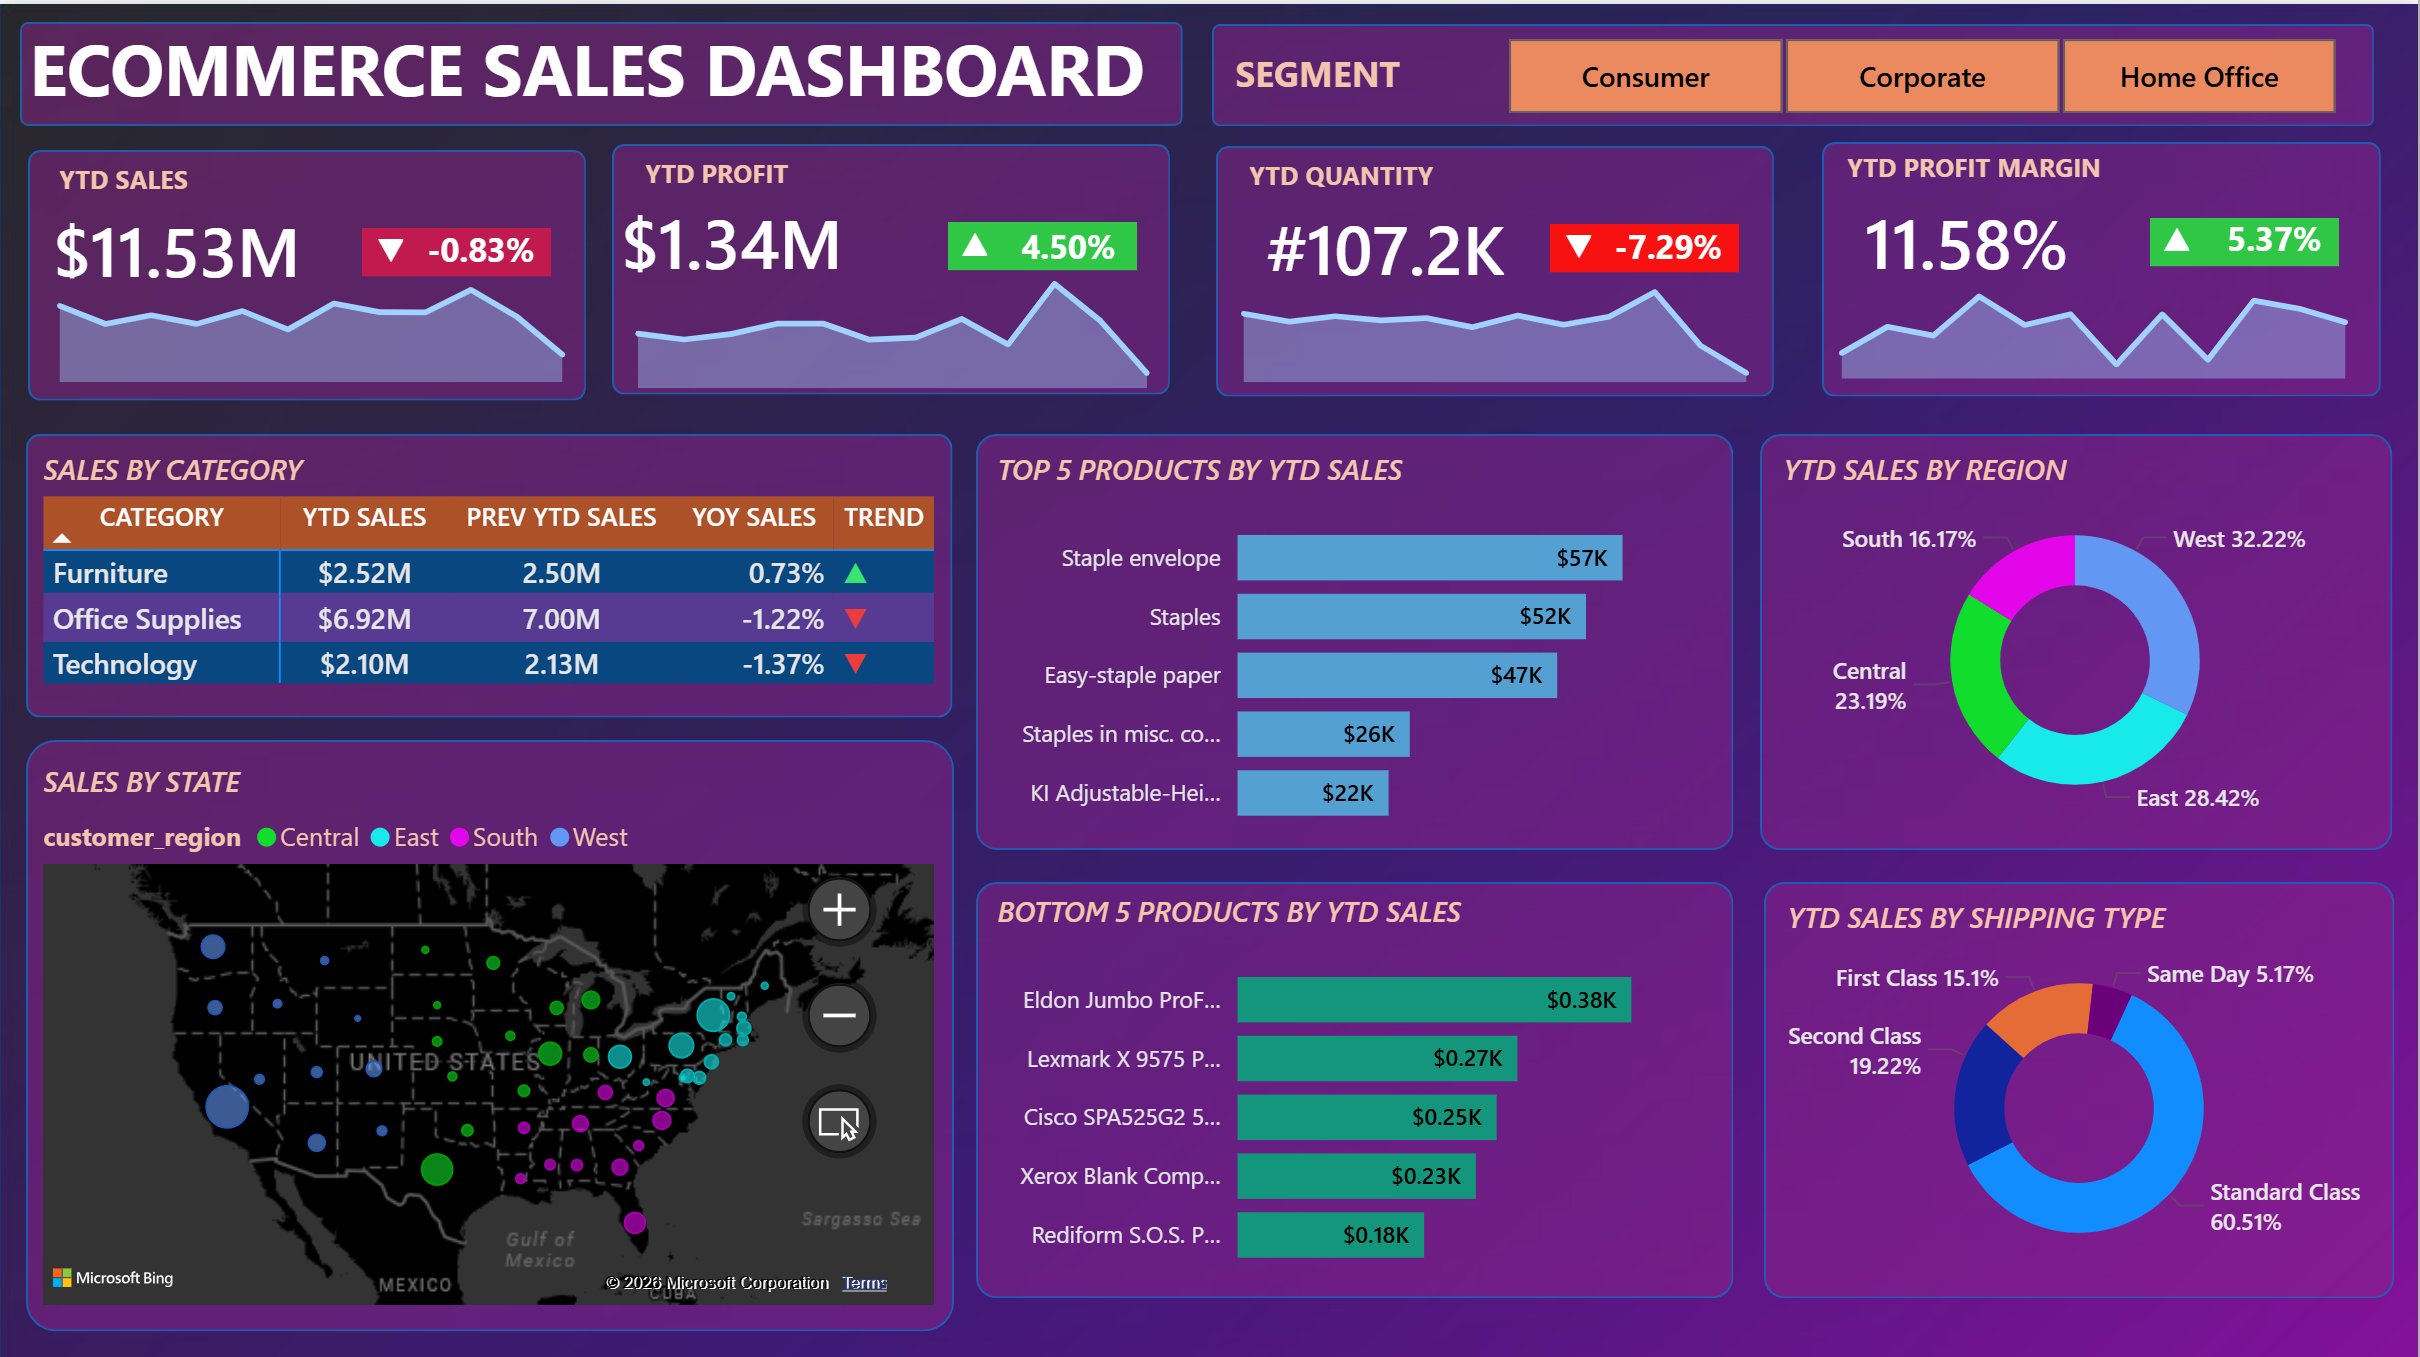

The page's visual inventory and layout, read from the dashboard file:
{"tool":"powerbi","page":{"name":"Page 1","canvas":[1280,720],"ordinal":0},"visuals":[{"type":"group","id":"g1","title":"Group 3","box":[0,77,313.2,132.5],"z":0},{"type":"shape","box":[192.7,118,100,25.3],"z":0,"group":"g1"},{"type":"shape","box":[15.6,77,295.2,132.5],"z":1000,"group":"g1"},{"type":"shape","box":[12,9.6,615,55],"z":2000},{"type":"areaChart","fields":{"Category":["CALANDER.MONTH"],"Y":["Sum(Ecommerce_data.sales_per_order)"]},"box":[18,128.8,295.2,75.9],"z":2000,"group":"g1"},{"type":"textbox","box":[12,3.6,637.3,68.7],"z":3000},{"type":"cardVisual","fields":{"Data":["Ecommerce_data.SALES TREND ICON"]},"box":[171.1,101.1,72.3,54.2],"z":3000,"group":"g1"},{"type":"textbox","box":[27.7,78.2,95.2,39.8],"z":4000,"group":"g1"},{"type":"shape","box":[14.5,227.7,490,150],"z":4000},{"type":"cardVisual","fields":{"Data":["Ecommerce_data.YOY GROWTH"]},"box":[197.3,102.3,115.5,52.9],"z":4500,"group":"g1"},{"type":"shape","box":[325.8,74.5,295.2,132.5],"z":5000,"group":"g4"},{"type":"cardVisual","fields":{"Data":["Ecommerce_data.YTD SALES"]},"box":[0,93.8,206.9,68.6],"z":5000,"group":"g1"},{"type":"pivotTable","title":"SALES BY CATEGORY","fields":{"Rows":["Ecommerce_data.category_name"],"Values":["Ecommerce_data.YTD SALES","Ecommerce_data.PREV YTD SALES","Ecommerce_data.YOY SALES GROWTH","Ecommerce_data.SALES TREND ICON"]},"box":[19.3,236.1,485.5,142.2],"z":5000},{"type":"shape","box":[14.4,389.8,490.8,312.8],"z":6000},{"type":"map","title":"SALES BY STATE","fields":{"X":["Longitude&Latitude_data.longitude"],"Y":["Longitude&Latitude_data.latitude"],"Size":["Ecommerce_data.YTD SALES"],"Series":["Ecommerce_data.customer_region"]},"box":[19.2,400.6,481.2,292.3],"z":7000},{"type":"shape","box":[517.3,227.4,400.6,220],"z":8000},{"type":"shape","box":[517.3,464.4,400.6,220.2],"z":9000},{"type":"areaChart","fields":{"Category":["CALANDER.MONTH"],"Y":["Sum(Ecommerce_data.profit_per_order)"]},"box":[324.2,132.6,298.8,75.9],"z":10000,"group":"g4"},{"type":"barChart","title":"TOP 5 PRODUCTS BY YTD SALES","fields":{"Category":["Ecommerce_data.product_name"],"Y":["Ecommerce_data.YTD SALES"]},"box":[523.3,235.8,385,211.7],"z":10000},{"type":"shape","box":[502.9,115.5,100,25.3],"z":11000,"group":"g4"},{"type":"barChart","title":"BOTTOM 5 PRODUCTS BY YTD SALES","fields":{"Category":["Ecommerce_data.product_name"],"Y":["Ecommerce_data.YTD SALES"]},"box":[523.3,469.2,385,211.7],"z":11000},{"type":"shape","box":[642.4,10.8,614.7,54.1],"z":12000},{"type":"cardVisual","fields":{"Data":["Ecommerce_data.YOY PROFIT GROWTH"]},"box":[506.1,101.2,121.7,53],"z":12000,"group":"g4"},{"type":"cardVisual","fields":{"Data":["Ecommerce_data.PROFIT TREND ICON"]},"box":[481.2,98.6,72.3,54.2],"z":13000,"group":"g4"},{"type":"shape","box":[932.3,227.4,334.4,220.2],"z":13000},{"type":"group","id":"g2","title":"Group 1","box":[958.8,72.2,306.8,135.9],"z":14000},{"type":"textbox","box":[337.8,75.7,95.2,39.8],"z":14000,"group":"g4"},{"type":"group","id":"g3","title":"Group 2","box":[642.3,74.6,304.8,132.5],"z":15000},{"type":"group","id":"g4","title":"Group 4","box":[324.2,74.5,303.6,134],"z":16000},{"type":"shape","box":[644.2,74.6,295.2,132.5],"z":16000,"group":"g3"},{"type":"areaChart","fields":{"Category":["CALANDER.MONTH"],"Y":["Sum(Ecommerce_data.order_quantity)"]},"box":[644.7,135.9,295.2,68.7],"z":17000,"group":"g3"},{"type":"shape","box":[934.2,464,333.4,220.2],"z":17000},{"type":"shape","box":[821.3,115.6,100,25.3],"z":18000,"group":"g3"},{"type":"donutChart","title":"YTD SALES BY REGION","fields":{"Category":["Ecommerce_data.customer_region"],"Y":["Ecommerce_data.YTD SALES"]},"box":[939.2,236.3,318.4,202.8],"z":18000},{"type":"cardVisual","fields":{"Data":["Ecommerce_data.YOY QTY GROWTH"]},"box":[821.4,99.5,125.6,53.5],"z":19000,"group":"g3"},{"type":"donutChart","title":"YTD SALES BY SHIPPING TYPE","fields":{"Y":["Ecommerce_data.YTD SALES"],"Category":["Ecommerce_data.shipping_type"]},"box":[941.7,472.7,318.4,202.8],"z":19000},{"type":"textbox","box":[649.3,18.7,107,39.8],"z":20000},{"type":"cardVisual","fields":{"Data":["Ecommerce_data.QTY TREND ICON"]},"box":[799.6,98.7,72.3,54.2],"z":20000,"group":"g3"},{"type":"slicer","fields":{"Values":["Ecommerce_data.customer_segment"]},"box":[773.5,12,487.2,52.9],"z":21000},{"type":"textbox","box":[656.8,75.7,116.9,39.8],"z":21000,"group":"g3"},{"type":"shape","box":[965.1,73.4,295.7,134.7],"z":22000,"group":"g2"},{"type":"cardVisual","fields":{"Data":["Ecommerce_data.YTD PROFIT"]},"box":[300.1,89.9,217.4,69.6],"z":22000},{"type":"cardVisual","fields":{"Data":["Ecommerce_data.YTD CONCAT QTY"]},"box":[642.3,92.6,189.2,68.7],"z":23000,"group":"g3"},{"type":"areaChart","fields":{"Category":["CALANDER.MONTH"],"Y":["Ecommerce_data.PROFIT MARGIN"]},"box":[961.2,133.8,295.7,69.8],"z":24000,"group":"g2"},{"type":"shape","box":[1138.1,113.1,100.2,25.7],"z":25000,"group":"g2"},{"type":"cardVisual","fields":{"Data":["Ecommerce_data.YOY PROFIT MARGIN GROWTH"]},"box":[1142.5,96.7,123.1,53.9],"z":26000,"group":"g2"},{"type":"cardVisual","fields":{"Data":["Ecommerce_data.PROFIT MARGIN TREND ICON"]},"box":[1116.4,96,72.4,55.1],"z":27000,"group":"g2"},{"type":"textbox","box":[973.5,72.2,153.3,40.4],"z":28000,"group":"g2"},{"type":"cardVisual","fields":{"Data":["Ecommerce_data.YTD PROFIT MARGIN"]},"box":[958.8,89.7,189.5,69.8],"z":29000,"group":"g2"}]}

Visuals, with their boxes in screenshot pixels (x1, y1, x2, y2), scaled from the page's 1280x720 canvas onto the 2420x1357 screenshot:
"Group 3" group: l=0, t=145, r=592, b=395
shape: l=364, t=222, r=553, b=270
shape: l=29, t=145, r=588, b=395
shape: l=23, t=18, r=1185, b=122
areaChart - CALANDER.MONTH x Sum(Ecommerce_data.sales_per_order): l=34, t=243, r=592, b=386
textbox: l=23, t=7, r=1228, b=136
cardVisual - Ecommerce_data.SALES TREND ICON: l=323, t=191, r=460, b=293
textbox: l=52, t=147, r=232, b=222
shape: l=27, t=429, r=954, b=712
cardVisual - Ecommerce_data.YOY GROWTH: l=373, t=193, r=591, b=293
shape: l=616, t=140, r=1174, b=390
cardVisual - Ecommerce_data.YTD SALES: l=0, t=177, r=391, b=306
"SALES BY CATEGORY" pivotTable: l=36, t=445, r=954, b=713
shape: l=27, t=735, r=955, b=1324
"SALES BY STATE" map: l=36, t=755, r=946, b=1306
shape: l=978, t=429, r=1735, b=843
shape: l=978, t=875, r=1735, b=1290
areaChart - CALANDER.MONTH x Sum(Ecommerce_data.profit_per_order): l=613, t=250, r=1178, b=393
"TOP 5 PRODUCTS BY YTD SALES" barChart: l=989, t=444, r=1717, b=843
shape: l=951, t=218, r=1140, b=265
"BOTTOM 5 PRODUCTS BY YTD SALES" barChart: l=989, t=884, r=1717, b=1283
shape: l=1215, t=20, r=2377, b=122
cardVisual - Ecommerce_data.YOY PROFIT GROWTH: l=957, t=191, r=1187, b=291
cardVisual - Ecommerce_data.PROFIT TREND ICON: l=910, t=186, r=1046, b=288
shape: l=1763, t=429, r=2395, b=844
"Group 1" group: l=1813, t=136, r=2393, b=392
textbox: l=639, t=143, r=819, b=218
"Group 2" group: l=1214, t=141, r=1791, b=390
"Group 4" group: l=613, t=140, r=1187, b=393
shape: l=1218, t=141, r=1776, b=390
areaChart - CALANDER.MONTH x Sum(Ecommerce_data.order_quantity): l=1219, t=256, r=1777, b=386
shape: l=1766, t=875, r=2397, b=1290
shape: l=1553, t=218, r=1742, b=266
"YTD SALES BY REGION" donutChart: l=1776, t=445, r=2378, b=828
cardVisual - Ecommerce_data.YOY QTY GROWTH: l=1553, t=188, r=1790, b=288
"YTD SALES BY SHIPPING TYPE" donutChart: l=1780, t=891, r=2382, b=1273
textbox: l=1228, t=35, r=1430, b=110
cardVisual - Ecommerce_data.QTY TREND ICON: l=1512, t=186, r=1648, b=288
slicer - Ecommerce_data.customer_segment: l=1462, t=23, r=2384, b=122
textbox: l=1242, t=143, r=1463, b=218
shape: l=1825, t=138, r=2384, b=392
cardVisual - Ecommerce_data.YTD PROFIT: l=567, t=169, r=978, b=301
cardVisual - Ecommerce_data.YTD CONCAT QTY: l=1214, t=175, r=1572, b=304
areaChart - CALANDER.MONTH x Ecommerce_data.PROFIT MARGIN: l=1817, t=252, r=2376, b=384
shape: l=2152, t=213, r=2341, b=262
cardVisual - Ecommerce_data.YOY PROFIT MARGIN GROWTH: l=2160, t=182, r=2393, b=284
cardVisual - Ecommerce_data.PROFIT MARGIN TREND ICON: l=2111, t=181, r=2248, b=285
textbox: l=1841, t=136, r=2130, b=212
cardVisual - Ecommerce_data.YTD PROFIT MARGIN: l=1813, t=169, r=2171, b=301
